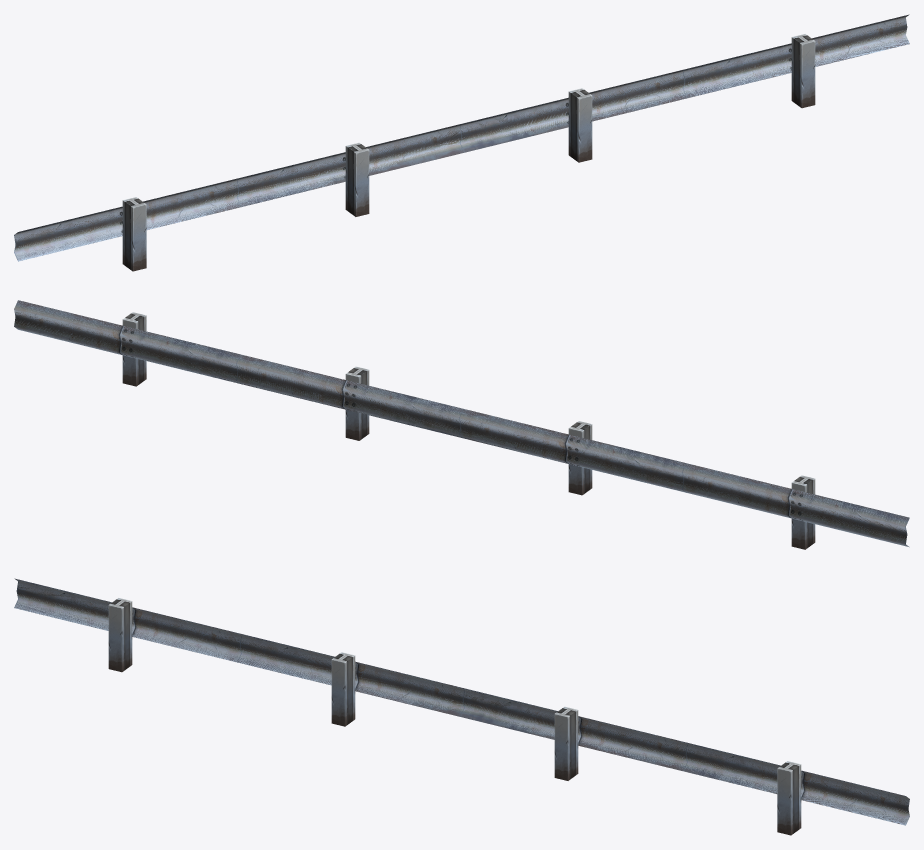
Rendered from guardRail_12m.fbx.
3 renders of one model, top to bottom at view 1: azimuth 30°, elevation 25°; view 2: azimuth 150°, elevation 25°; view 3: azimuth 330°, elevation 25°, orthographic.
Parts seen in each view (by area): view 1: guardRail_12m; view 2: guardRail_12m; view 3: guardRail_12m.
Boxes of the visible parts, x1,y1,x2,y2 form: guardRail_12m: (14,14,909,271); guardRail_12m: (14,300,909,549); guardRail_12m: (14,578,909,835).
Bounding box in the file's own units: 1200 × 82.17 × 33.12.
